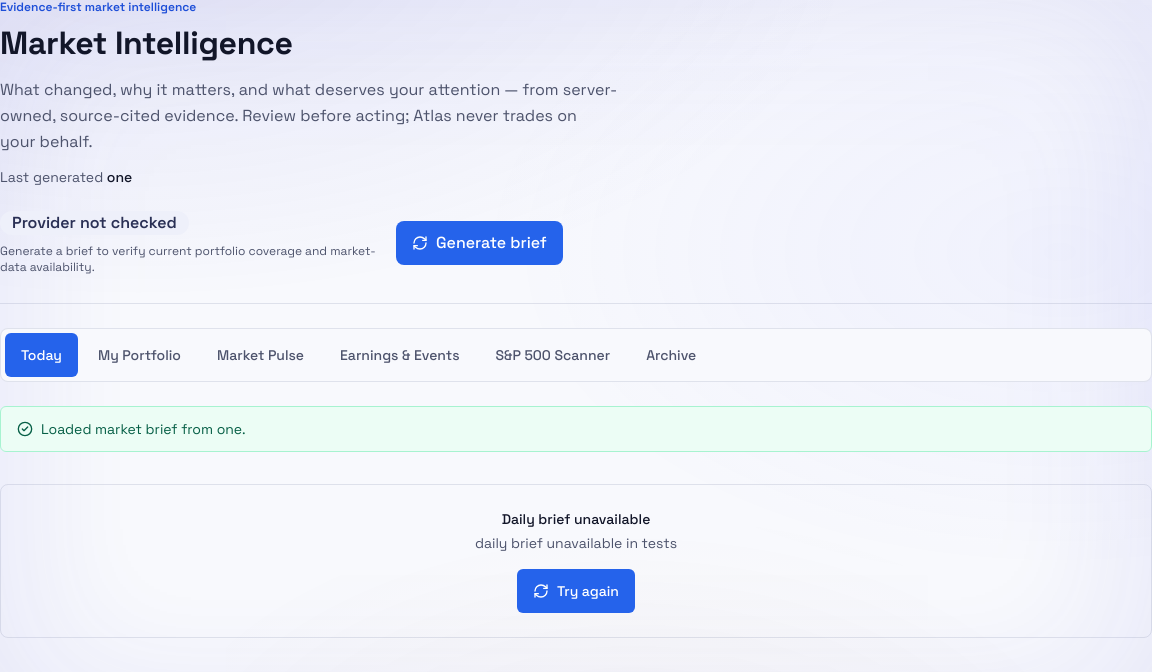
Test: clears a prior brief when a later selection fails
Check: the text "Loaded market brief from one." is shown, box x1=41 y1=419 x2=246 y2=439
Click the tab "Archive".
click(671, 355)  # box x1=630 y1=333 x2=712 y2=377
(page scrolled)
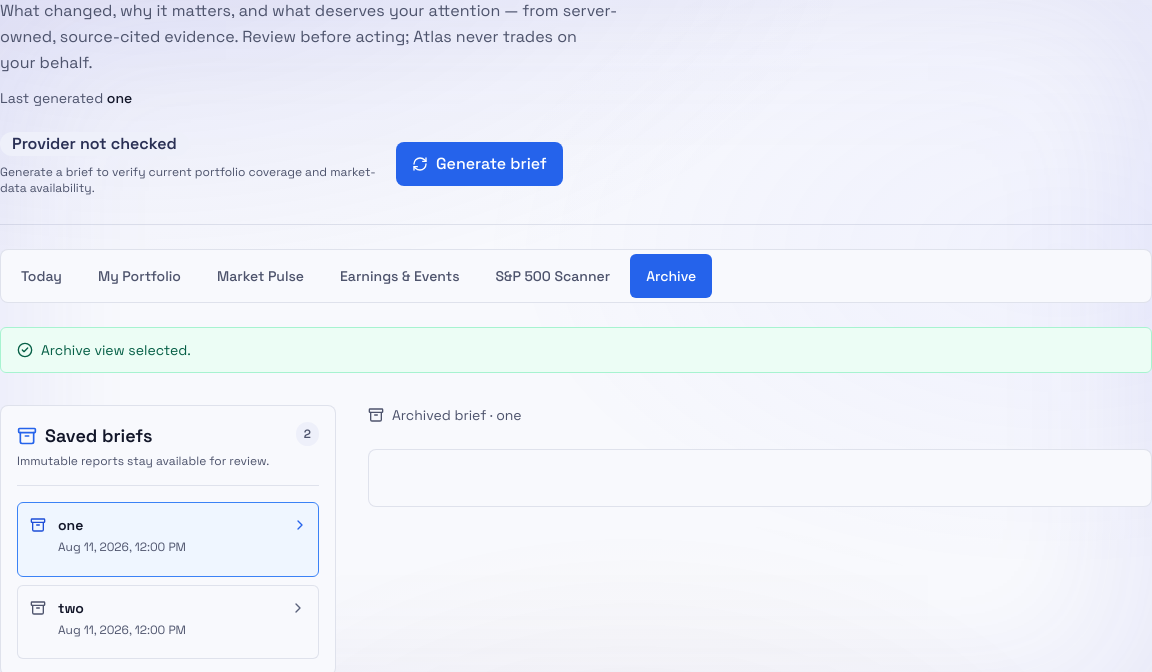
Click the button with aria-label "brief for two".
click(168, 622)  # box x1=17 y1=585 x2=319 y2=659
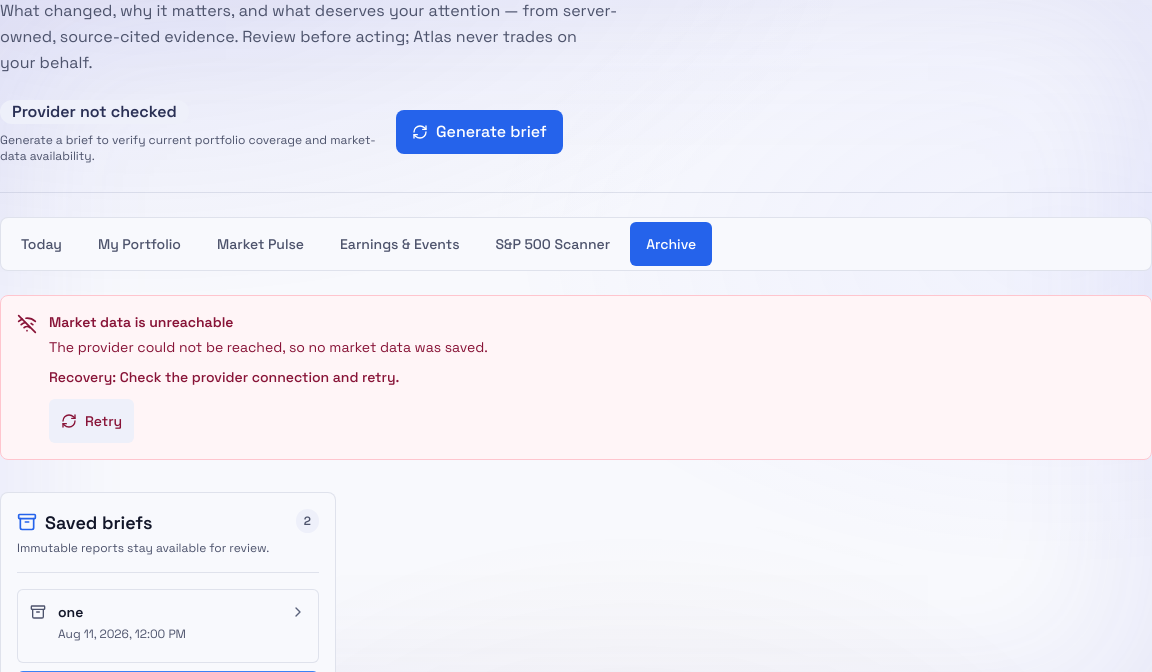
Check: the text "Loaded market brief from one" is not shown
Check: the text "provider could not be reached" is shown, box x1=49 y1=338 x2=488 y2=356
